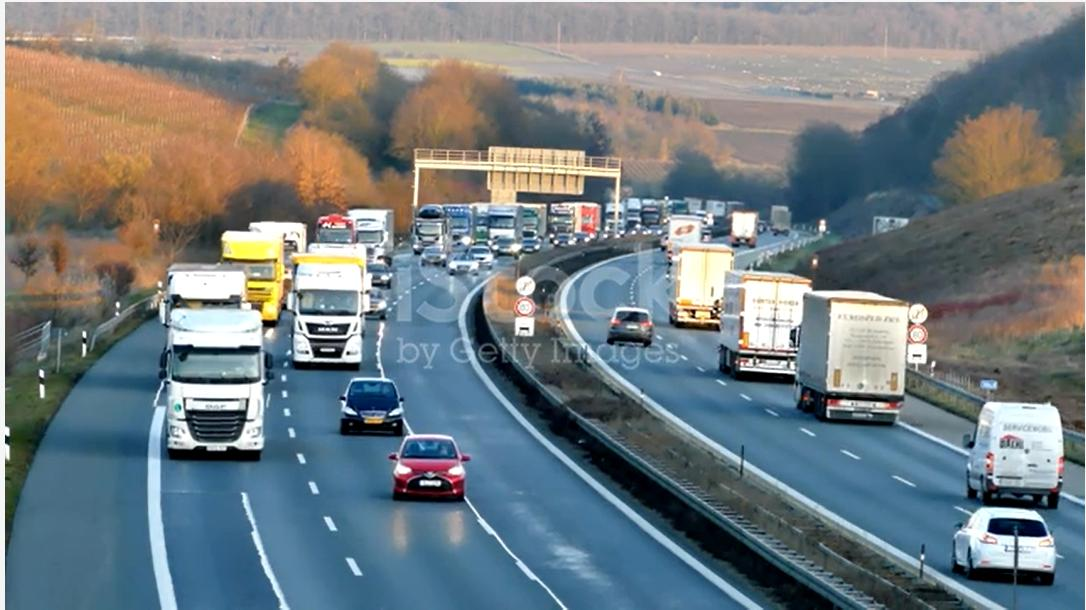car: (937, 395, 1085, 504), (946, 493, 1069, 593), (377, 417, 483, 514), (321, 361, 410, 442), (581, 293, 671, 358), (661, 239, 718, 336)
truck: (128, 273, 296, 489), (787, 269, 915, 445), (701, 263, 798, 408), (289, 251, 378, 390), (203, 209, 288, 322), (153, 257, 246, 337)
